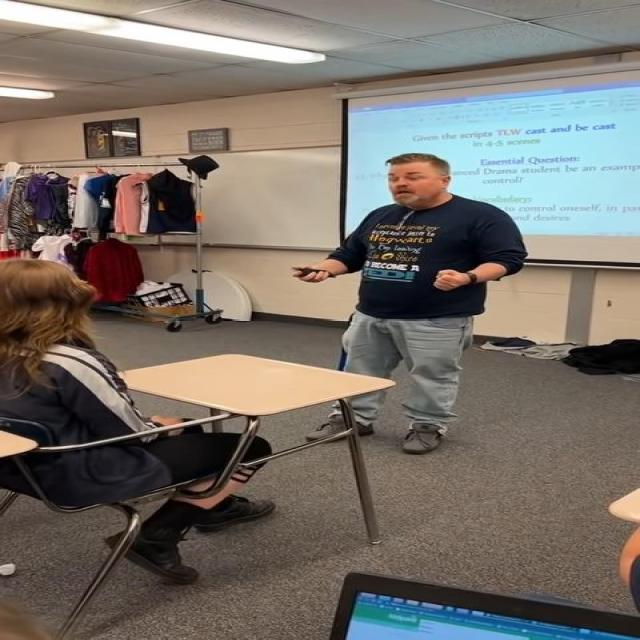NO-Mask: (388, 157, 450, 207)
